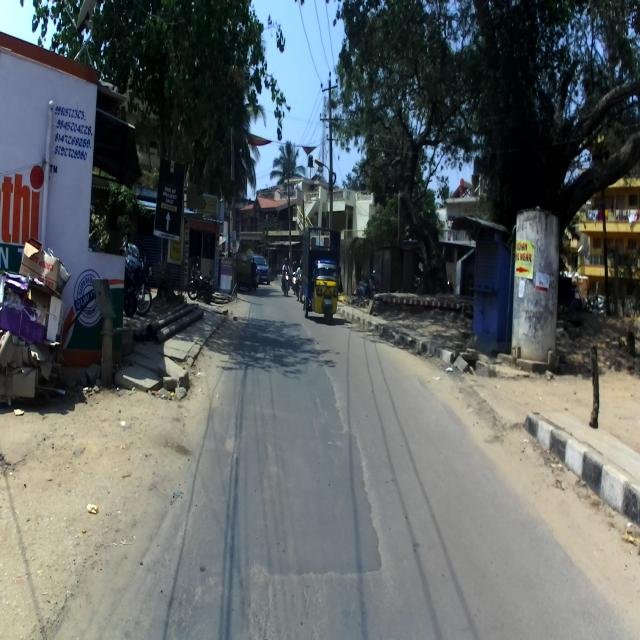auto ahead at: (303, 230, 341, 326)
barrier ahead at: (2, 242, 73, 402)
stones ahead at: (144, 301, 208, 343)
